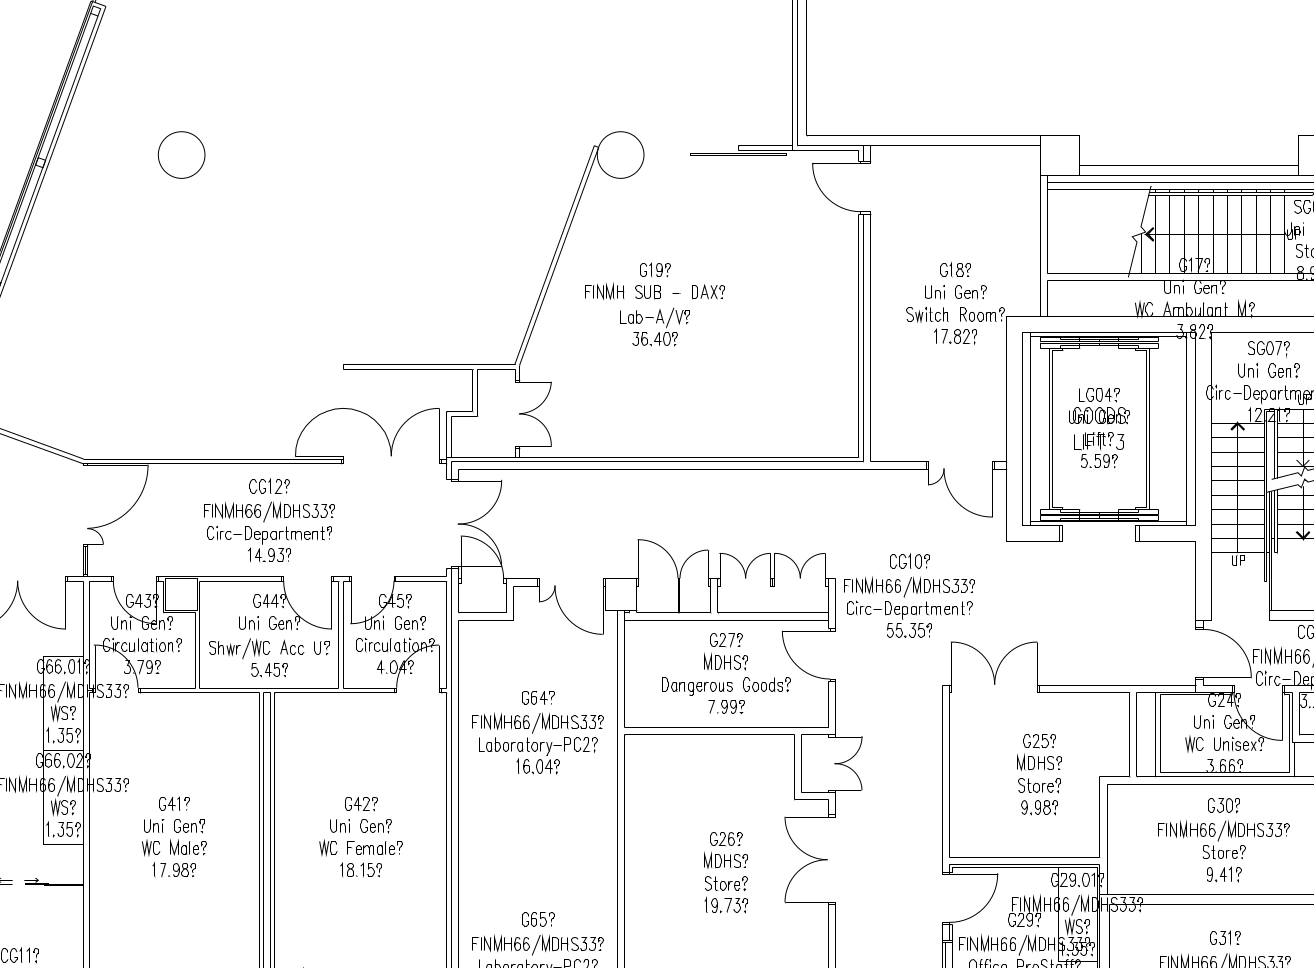door: (292, 390, 393, 458), (82, 463, 153, 530), (551, 574, 606, 645), (939, 460, 996, 527), (939, 870, 1001, 931), (774, 625, 836, 687), (802, 157, 862, 220), (107, 567, 163, 632), (391, 396, 443, 466), (1234, 680, 1288, 748), (17, 572, 73, 636), (1197, 623, 1255, 683), (992, 632, 1044, 699), (947, 634, 999, 701), (346, 567, 400, 629), (389, 636, 443, 699), (282, 570, 336, 632), (777, 806, 833, 861), (777, 856, 833, 911), (91, 638, 143, 696), (449, 475, 507, 525), (450, 521, 508, 571), (631, 529, 679, 590), (511, 378, 554, 415), (512, 413, 555, 450), (740, 547, 772, 594), (799, 548, 831, 595), (826, 730, 871, 764), (826, 765, 871, 799), (715, 545, 747, 592), (772, 546, 804, 593), (532, 572, 563, 609), (922, 455, 947, 495), (75, 527, 115, 548)
